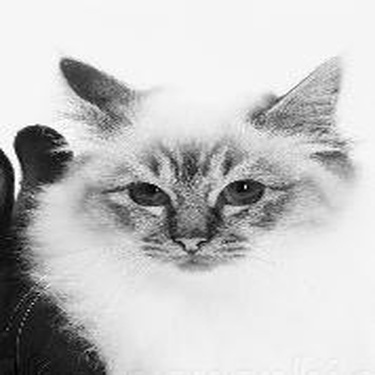cat: (19, 46, 369, 354)
